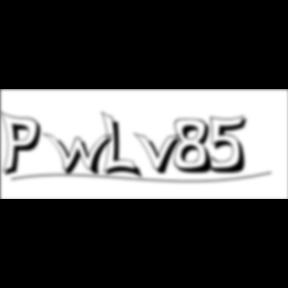5: (207, 114, 254, 176)
8: (174, 117, 220, 176)
L: (102, 110, 146, 182)
P: (0, 110, 48, 180)
v: (134, 131, 188, 177)
w: (43, 132, 121, 178)
